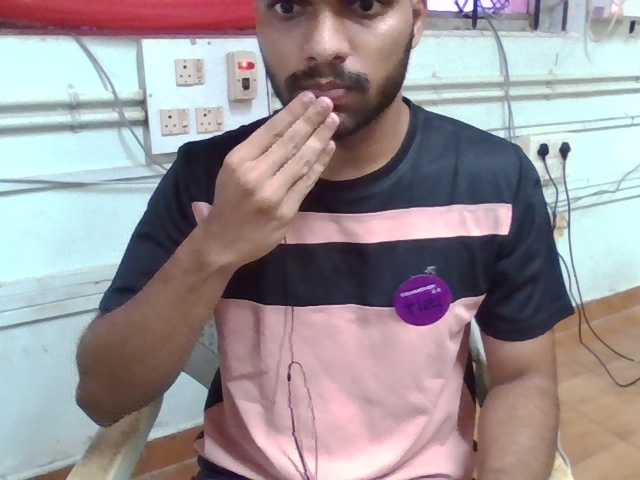eat: (188, 76, 365, 281)
